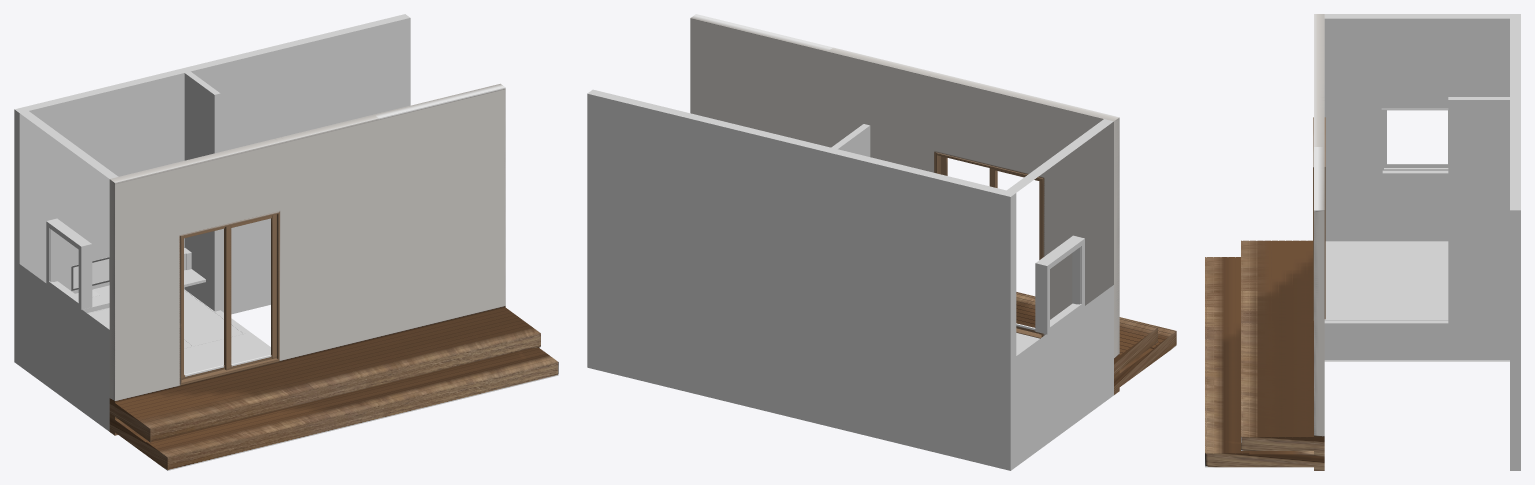
3 views of the same model, side by side, from view 1: azimuth 30°, elevation 25°; view 2: azimuth 150°, elevation 25°; view 3: azimuth 270°, elevation 25° (orthographic). The views are drawn at different scales.
Parts seen in each view (by area): view 1: 1.wall.002, 1.wall.001, 1.wall, 4-2.deck, 4-2.deck.002, 1.wall.003, 3.window.001, 2.floor.004, 2.floor.003, 4.deck.003, 4.deck.012, 4.deck.015 (+19 smaller); view 2: 1.wall.001, 1.wall.002, 1.wall, 3-2.window, 4.deck.011, 3.window.003, 立方体.001, 1.wall.003; view 3: 1.wall, 1.wall.003, 2.floor, 1.wall.002, 1.wall.001, 2.floor.001, 2.floor.004, 2.floor.003, 4.deck.011, 3.floor.005, 4.deck.013, 4.deck.003 (+18 smaller).
Part boxes in pixels (left/top/right/bottom): 1.wall.002: left=109, top=83, right=505, bottom=435; 1.wall.001: left=14, top=14, right=410, bottom=365; 1.wall: left=19, top=111, right=118, bottom=431; 4-2.deck: left=149, top=333, right=540, bottom=442; 4-2.deck.002: left=167, top=361, right=558, bottom=470; 1.wall.003: left=184, top=71, right=220, bottom=311; 3.window.001: left=225, top=214, right=276, bottom=370; 2.floor.004: left=184, top=333, right=270, bottom=374; 2.floor.003: left=184, top=289, right=243, bottom=345; 4.deck.003: left=139, top=325, right=532, bottom=423; 4.deck.012: left=163, top=359, right=557, bottom=457; 4.deck.015: left=153, top=351, right=546, bottom=449; 1.wall.001: left=587, top=89, right=1016, bottom=470; 1.wall.002: left=690, top=14, right=1119, bottom=394; 1.wall: left=1007, top=119, right=1113, bottom=466; 3-2.window: left=1035, top=235, right=1084, bottom=334; 4.deck.011: left=1119, top=332, right=1176, bottom=386; 3.window.003: left=936, top=152, right=1043, bottom=338; 立方体.001: left=1047, top=240, right=1084, bottom=332; 1.wall.003: left=831, top=124, right=870, bottom=156; 1.wall: left=1324, top=14, right=1509, bottom=241; 1.wall.003: left=1448, top=97, right=1509, bottom=323; 2.floor: left=1324, top=320, right=1509, bottom=360; 1.wall.002: left=1314, top=14, right=1324, bottom=470; 1.wall.001: left=1510, top=14, right=1520, bottom=470; 2.floor.001: left=1325, top=241, right=1448, bottom=267; 2.floor.004: left=1324, top=267, right=1386, bottom=320; 2.floor.003: left=1386, top=293, right=1448, bottom=320; 4.deck.011: left=1206, top=451, right=1313, bottom=467; 3.floor.005: left=1386, top=267, right=1448, bottom=293; 4.deck.013: left=1213, top=257, right=1220, bottom=454; 4.deck.003: left=1256, top=240, right=1263, bottom=437.
Bounding box in the file's own units: 6.49 × 4 × 4.4.
3 materials, 1 textured.
